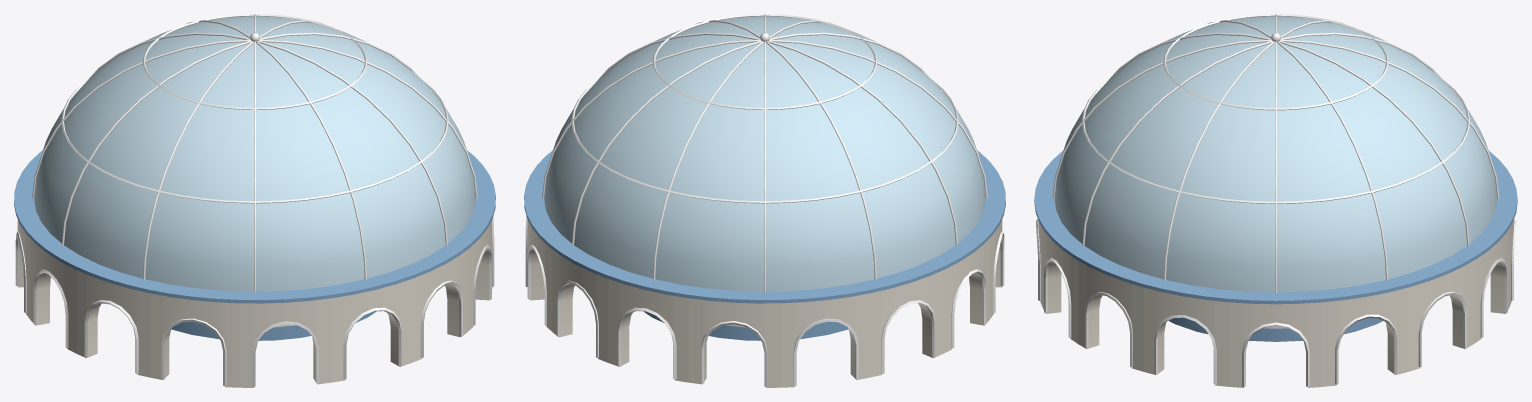
File: dome_hall.glb
The picture shows the model from 3 angles, left to right: view 1: azimuth 30°, elevation 25°; view 2: azimuth 150°, elevation 25°; view 3: azimuth 270°, elevation 25°; orthographic projection.
Visible parts, largest first — view 1: glass, dome_hall_structure, ribs, turntable; view 2: glass, dome_hall_structure, ribs, turntable; view 3: glass, dome_hall_structure, ribs, turntable.
Boxes of the visible parts, x1,y1,x2,y2 form: glass: (34, 16, 475, 291); dome_hall_structure: (14, 150, 495, 387); ribs: (32, 14, 477, 292); turntable: (171, 311, 376, 340); glass: (544, 16, 985, 291); dome_hall_structure: (524, 150, 1005, 387); ribs: (542, 14, 987, 292); turntable: (643, 311, 848, 340); glass: (1054, 16, 1497, 292); dome_hall_structure: (1034, 150, 1517, 387); ribs: (1052, 14, 1499, 292); turntable: (1169, 317, 1382, 341).
Size of the model in its own units: 15.24 by 8.88 by 15.24.
